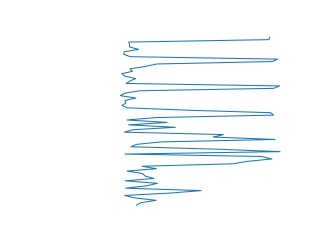crevasseRiverChannelBar: (120, 161, 271, 203)
majorRiverBedLagDeposit: (117, 119, 279, 161)
majorRiverChannelBar: (115, 35, 283, 117)
